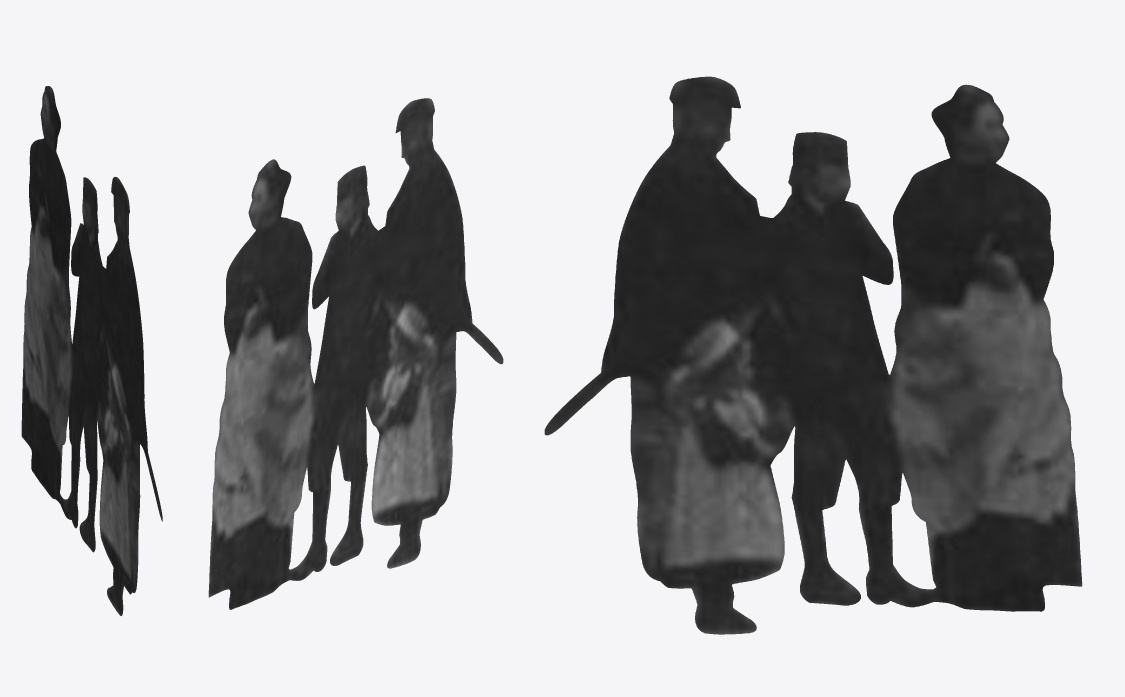
Rendered from family.FBX.
3 renders of one model, left to right at view 1: azimuth 30°, elevation 25°; view 2: azimuth 150°, elevation 25°; view 3: azimuth 270°, elevation 25°, orthographic. The views are drawn at different scales.
Parts seen in each view (by area): view 1: family; view 2: family; view 3: family.
Part boxes in pixels (x1,y1,x2,y2): family: (21,86,162,615); family: (208,98,503,609); family: (544,76,1082,634).
Bounding box in the file's own units: 27.95 × 177 × 148.
1 material, 1 textured.
